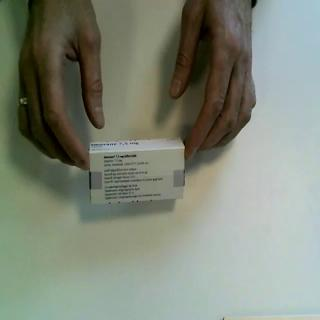imovane7-5mg: (88, 136, 187, 208)
